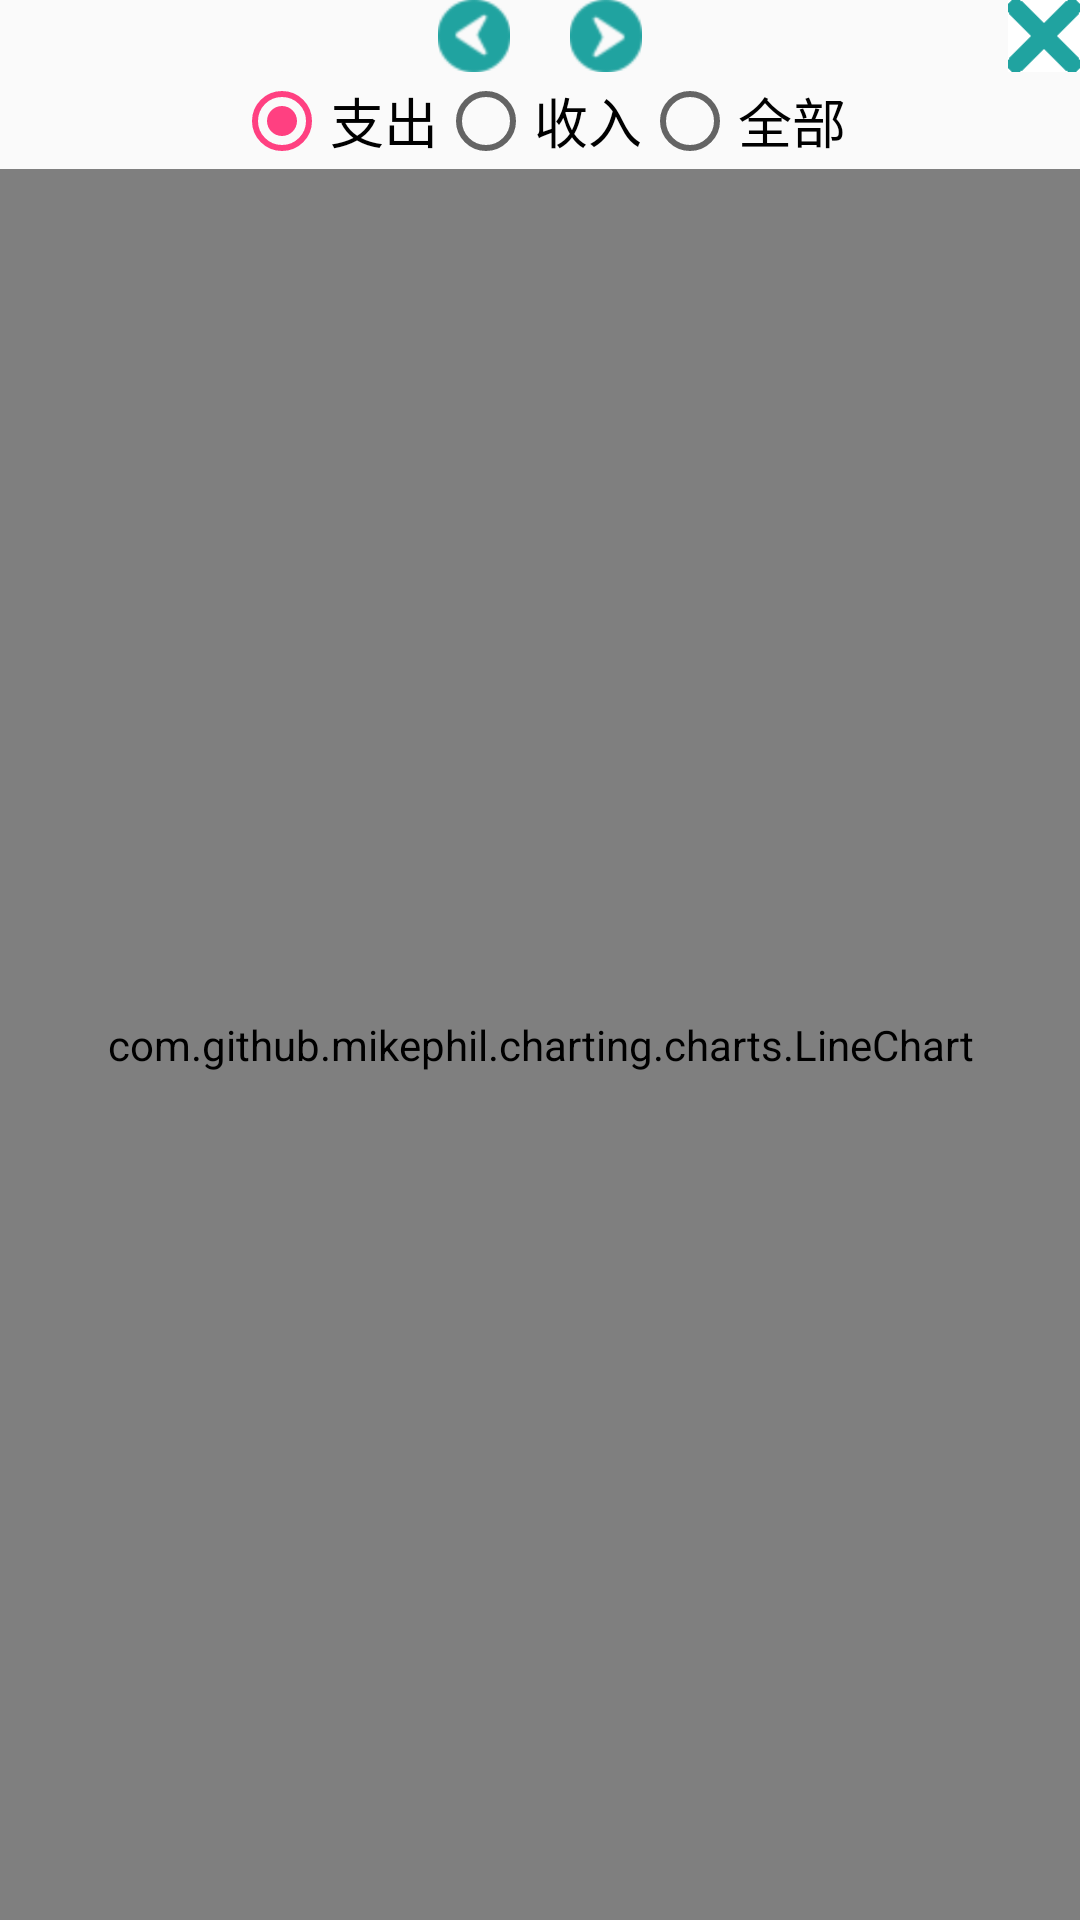

Where to tap for icons on this 1080 x 1920 app screen, as (x,y):
close: (1044,36)
left: (474,36)
right: (606,36)
